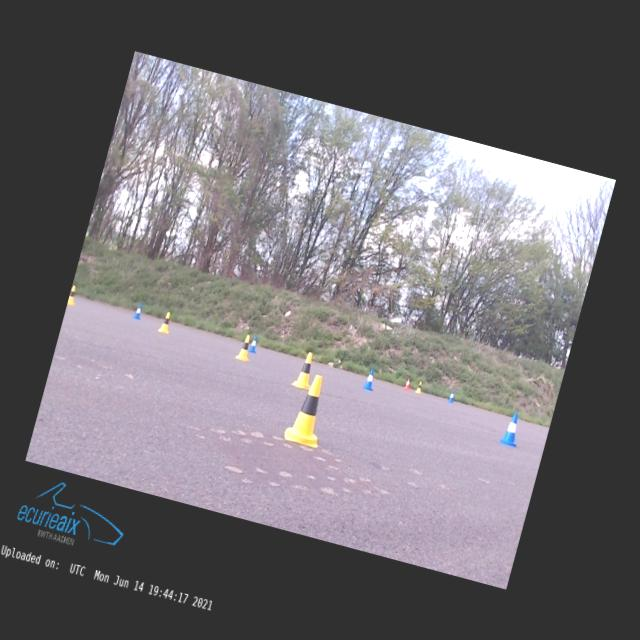blue_cone: (498, 412, 524, 446), (363, 368, 377, 391), (133, 302, 143, 320), (248, 336, 259, 352), (448, 390, 456, 402)
orange_cone: (403, 377, 411, 389)
yellow_cone: (283, 370, 334, 448), (290, 349, 318, 388), (234, 333, 253, 361), (158, 311, 174, 334), (67, 284, 78, 305), (414, 379, 424, 394)
